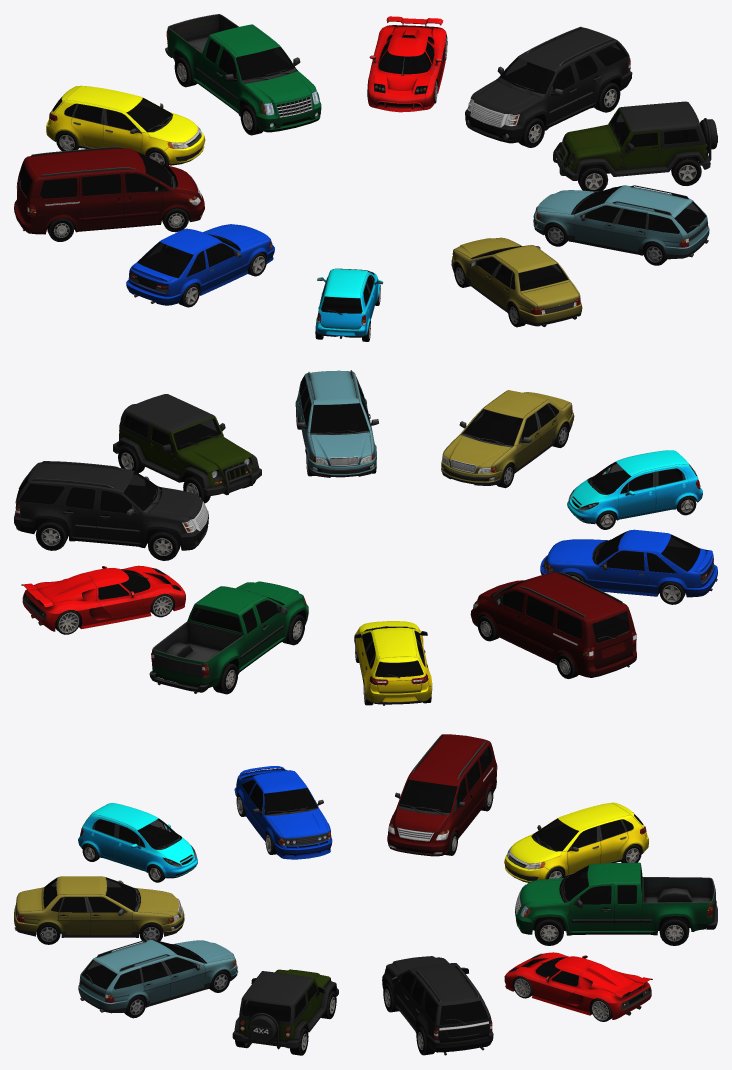
Rendered from generic_car_pack.glb.
3 renders of one model, top to bottom at view 1: azimuth 30°, elevation 25°; view 2: azimuth 150°, elevation 25°; view 3: azimuth 270°, elevation 25°, orthographic. The views are drawn at different scales.
Visible parts, largest first — view 1: minivan body, SUV Body, Pickup Body, Wagon Body, Offroad Body, Hatchback Body, Coupe Body, Sedan Body, Sport body, Compact Body, Wheel_G001, Wheel_G (+4 smaller); view 2: SUV Body, minivan body, Pickup Body, Offroad Body, Coupe Body, Sedan Body, Wagon Body, Sport body, Compact Body, Hatchback Body, Wheel_E003, Wheel_E002; view 3: Pickup Body, minivan body, Sedan Body, Wagon Body, SUV Body, Hatchback Body, Coupe Body, Offroad Body, Sport body, Compact Body, Wheel_E001, Wheel_E.
Boxes of the visible parts, x1,y1,x2,y2 form: minivan body: (14, 146, 204, 234); SUV Body: (465, 26, 632, 143); Pickup Body: (165, 14, 321, 132); Wagon Body: (533, 185, 709, 259); Offroad Body: (553, 101, 717, 180); Hatchback Body: (46, 85, 205, 165); Coupe Body: (126, 224, 274, 305); Sedan Body: (451, 237, 582, 326); Sport body: (367, 16, 446, 112); Compact Body: (316, 268, 383, 338); Wheel_G001: (671, 157, 701, 185); Wheel_G: (578, 164, 608, 191); SUV Body: (14, 461, 208, 550); minivan body: (470, 572, 636, 677); Pickup Body: (149, 581, 308, 693); Offroad Body: (113, 394, 261, 496); Coupe Body: (540, 529, 717, 597); Sedan Body: (441, 390, 574, 485); Wagon Body: (295, 370, 378, 477); Sport body: (21, 565, 185, 631); Compact Body: (567, 450, 702, 524); Hatchback Body: (354, 621, 432, 705); Wheel_E003: (35, 518, 68, 550); Wheel_E002: (148, 529, 180, 560); Pickup Body: (515, 862, 717, 935); minivan body: (387, 734, 497, 856); Sedan Body: (14, 876, 184, 937); Wagon Body: (78, 940, 238, 1013); SUV Body: (382, 956, 493, 1055); Hatchback Body: (504, 802, 648, 882); Coupe Body: (234, 766, 332, 859); Offroad Body: (232, 969, 338, 1049); Sport body: (504, 952, 652, 1019); Compact Body: (78, 803, 197, 878); Wheel_E001: (659, 916, 689, 945); Wheel_E: (534, 916, 563, 945).
Bounding box in the file's own units: 16.87 × 1.76 × 17.97.
30 materials, 20 textured.
